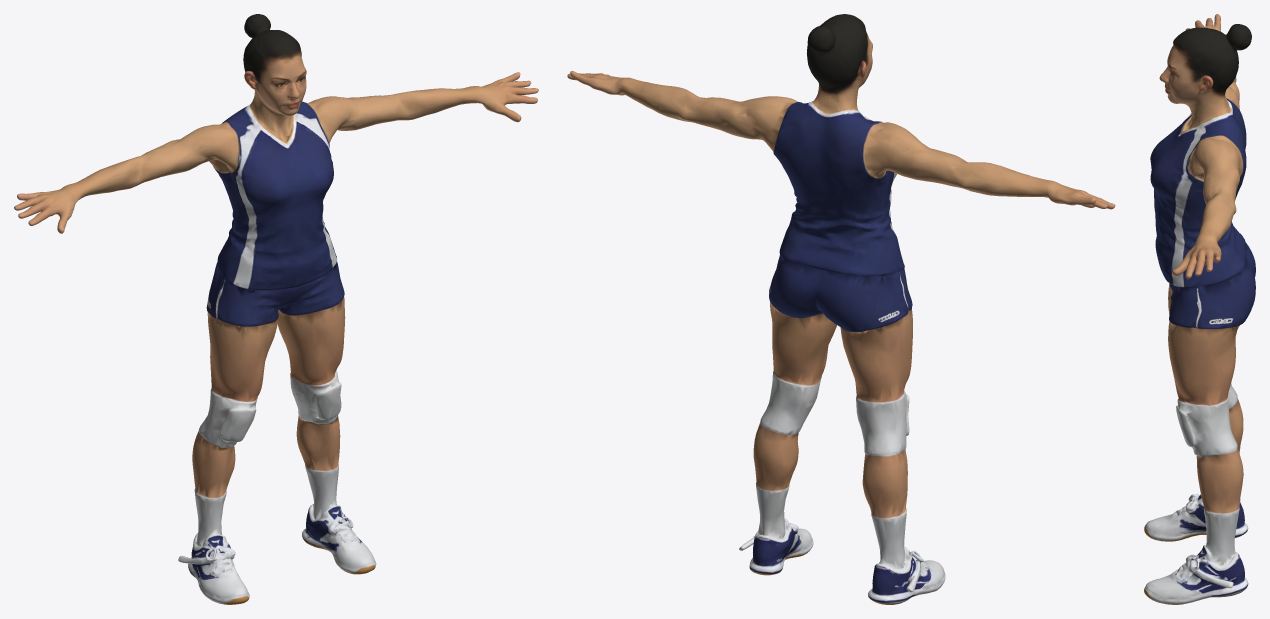
Rendered from spiker.glb.
3 views of the same model, side by side, from view 1: azimuth 30°, elevation 25°; view 2: azimuth 150°, elevation 25°; view 3: azimuth 270°, elevation 25° (orthographic). The views are drawn at different scales.
Visible parts, largest first — view 1: tripo_node_4f352619-d224-4ae3-a960-9c61413bbf0b; view 2: tripo_node_4f352619-d224-4ae3-a960-9c61413bbf0b; view 3: tripo_node_4f352619-d224-4ae3-a960-9c61413bbf0b.
Boxes of the visible parts, x1,y1,x2,y2 form: tripo_node_4f352619-d224-4ae3-a960-9c61413bbf0b: [14, 14, 538, 604]; tripo_node_4f352619-d224-4ae3-a960-9c61413bbf0b: [567, 14, 1115, 604]; tripo_node_4f352619-d224-4ae3-a960-9c61413bbf0b: [1144, 14, 1255, 604].
Bounding box in the file's own units: 1.82 × 1.82 × 0.3405.
Materials: 1 (1 with a texture image).
